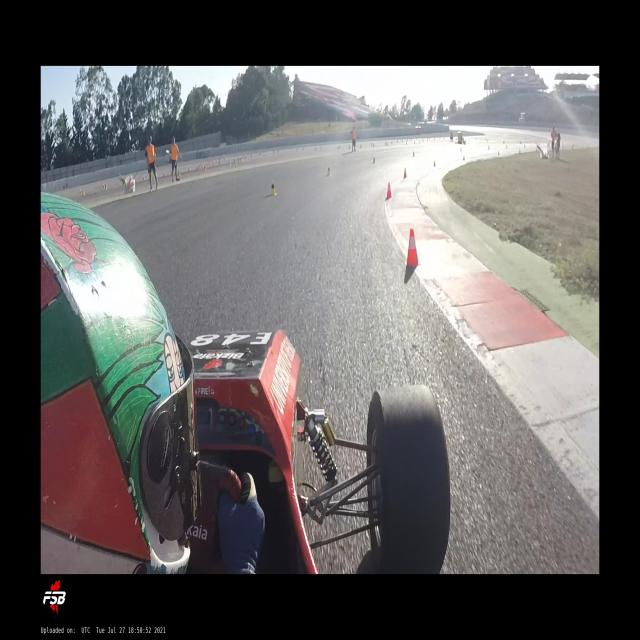orange_cone: (404, 229, 421, 267), (385, 182, 392, 199), (403, 168, 407, 178), (433, 160, 436, 167), (497, 150, 500, 155), (79, 188, 81, 194), (463, 156, 465, 160)
yellow_cone: (270, 180, 276, 196), (326, 167, 331, 176), (372, 156, 376, 164), (412, 151, 415, 157), (83, 189, 85, 195), (460, 147, 462, 153), (488, 145, 490, 150)
